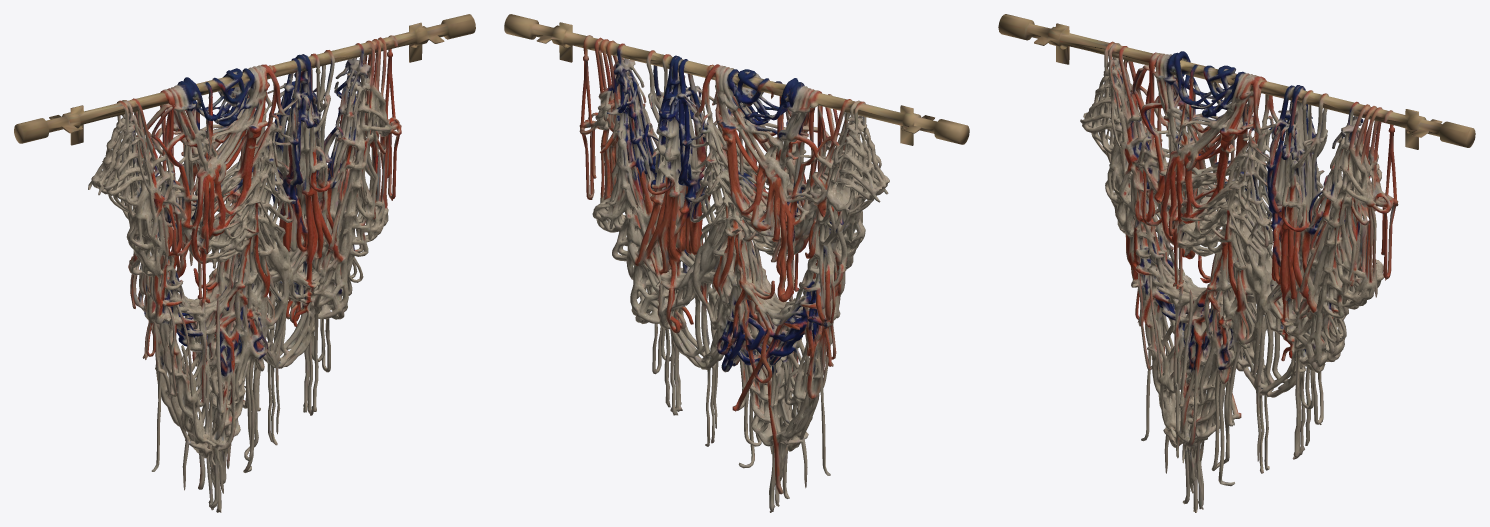
The model's file is tangled-nets.glb.
3 renders of one model, left to right at view 1: azimuth 30°, elevation 25°; view 2: azimuth 150°, elevation 25°; view 3: azimuth 330°, elevation 25°, orthographic. The views are drawn at different scales.
Parts seen in each view (by area): view 1: Mesh_0; view 2: Mesh_0; view 3: Mesh_0.
Boxes of the visible parts, x1,y1,x2,y2 form: Mesh_0: (14,14,475,512); Mesh_0: (504,14,969,512); Mesh_0: (998,14,1475,512).
Bounding box in the file's own units: 1.5 × 1.38 × 0.1912.
Materials: 1 (1 with a texture image).
